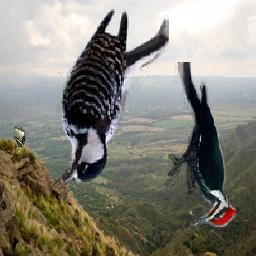Cuckoo: (11, 126, 25, 155)
Woodpecker: (55, 9, 170, 189), (168, 63, 236, 230)
